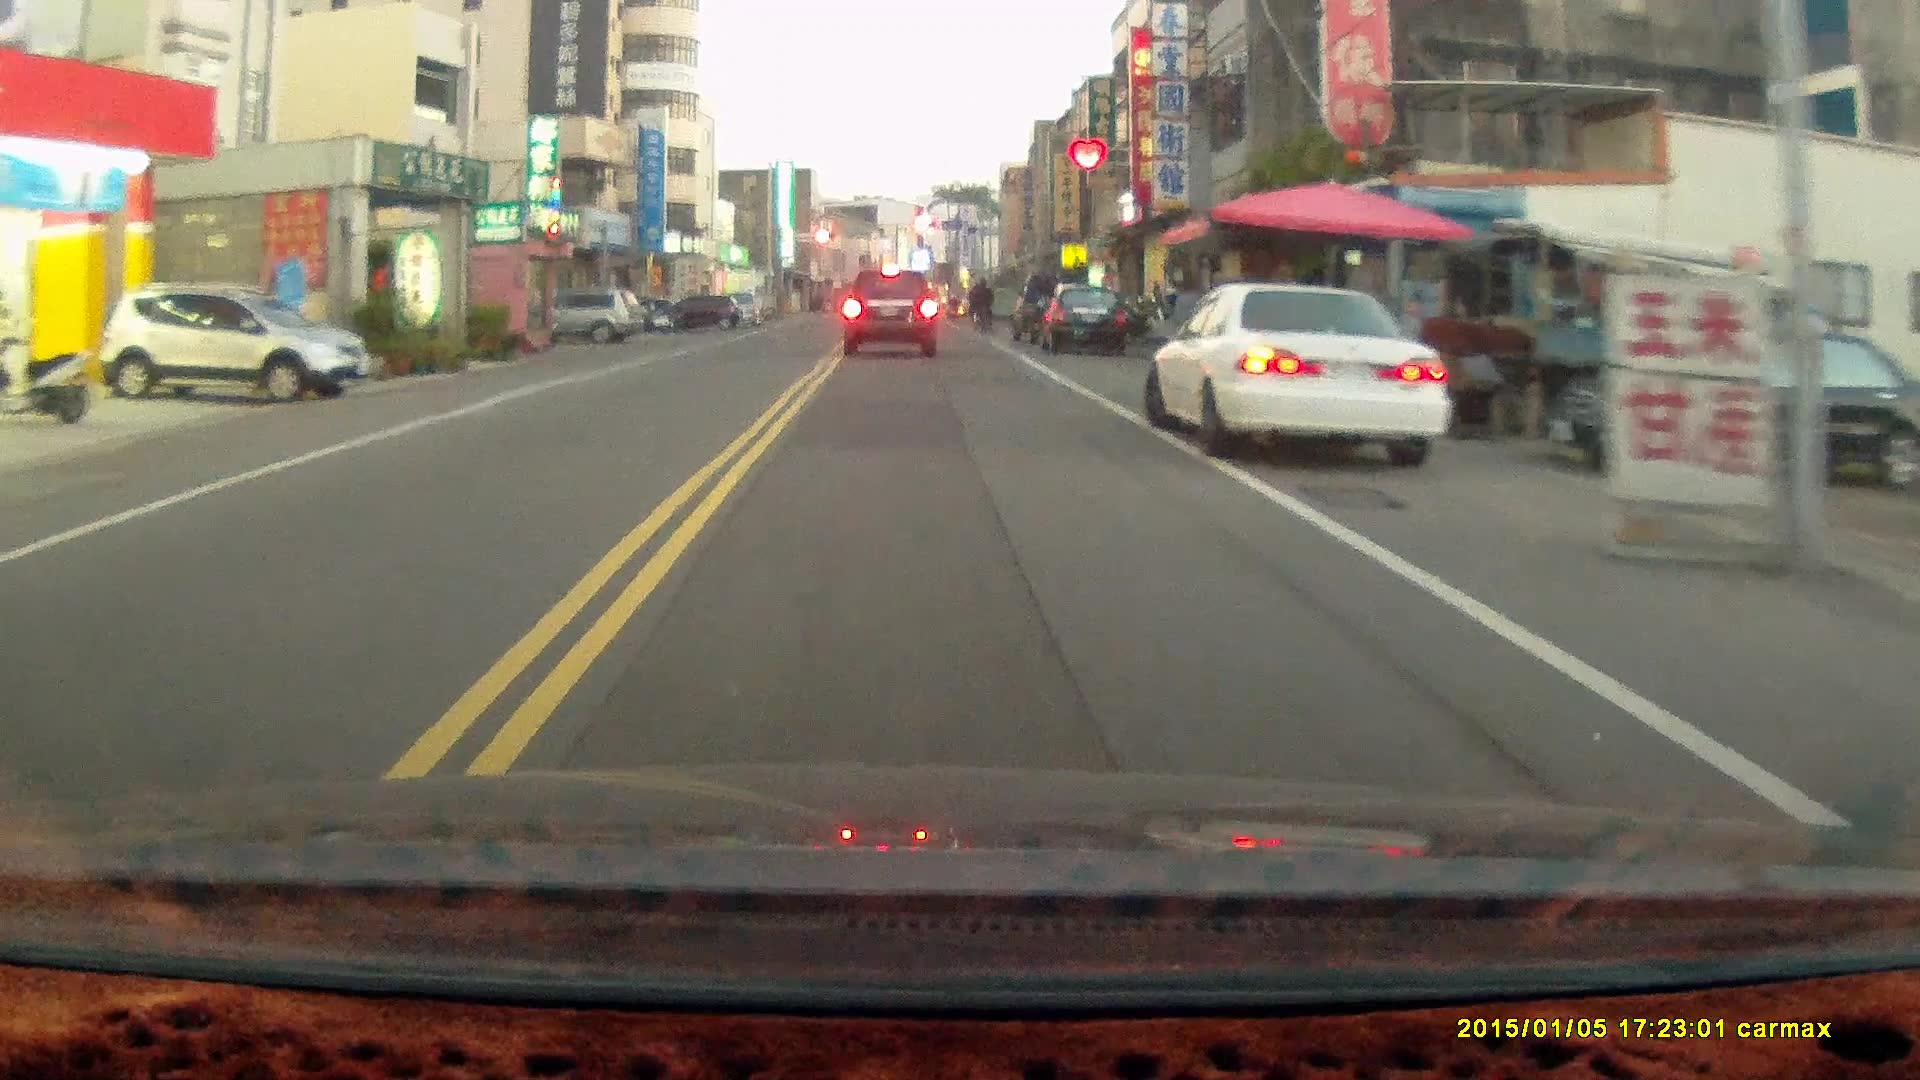rider: (968, 277, 994, 333)
vehicle: (1535, 327, 1918, 496), (1148, 281, 1450, 468), (106, 284, 363, 408), (841, 263, 941, 359), (1040, 285, 1135, 354), (549, 289, 646, 343)
